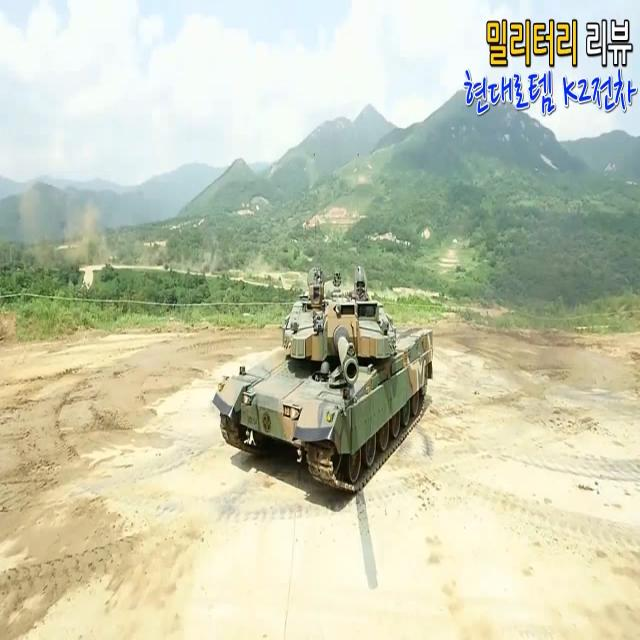korea tank: (210, 266, 434, 490)
